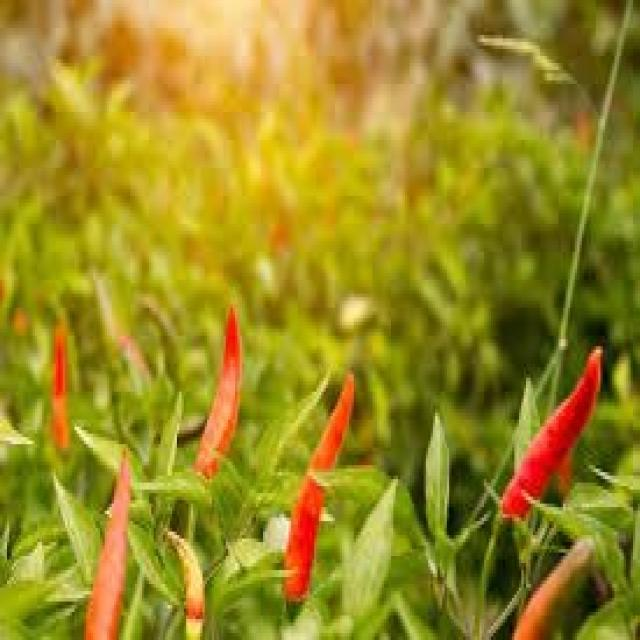Mosaic_virus: (4, 266, 640, 640)
